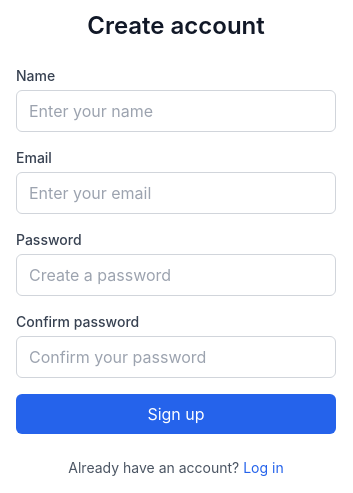
Scenario: Signup › shows loading state while submitting
The width and height of the screenshot is (353, 493).
Type "Test User" into the field labelled "Name" at point(176, 111), box left=16, top=90, right=336, bottom=132
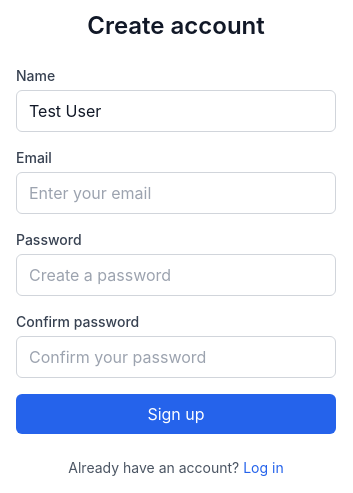
Type "test@example.com" into the field labelled "Email" at point(176, 193), box left=16, top=172, right=336, bottom=214
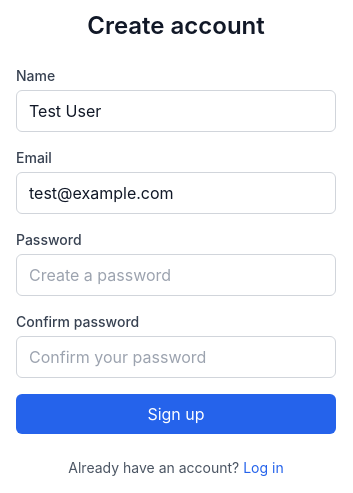
Type "password123" into the password field labelled "Password" at point(176, 275), box left=16, top=254, right=336, bottom=296
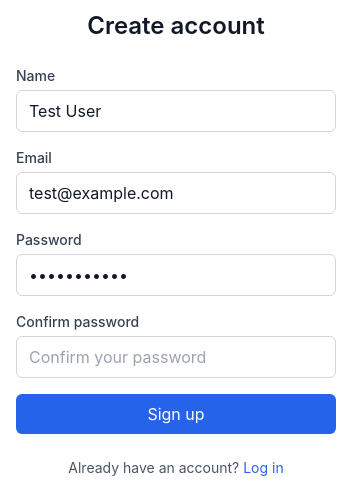
Type "password123" into the password field labelled "Confirm password" at point(176, 357), box left=16, top=336, right=336, bottom=378
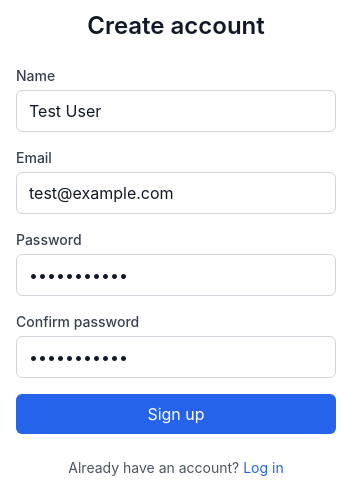
Click the button "Sign up" at point(176, 414), box left=16, top=394, right=336, bottom=434
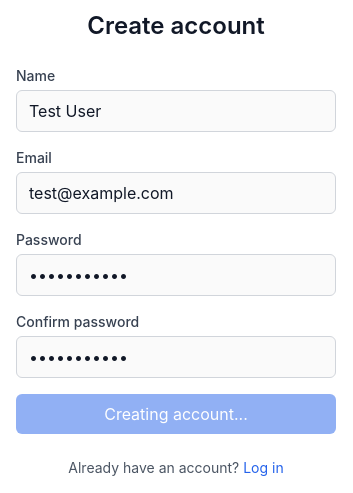
expect the field labelled "Name" is disabled: met, box left=16, top=90, right=336, bottom=132
expect the button "Creating account..." is disabled: met, box left=16, top=394, right=336, bottom=434
